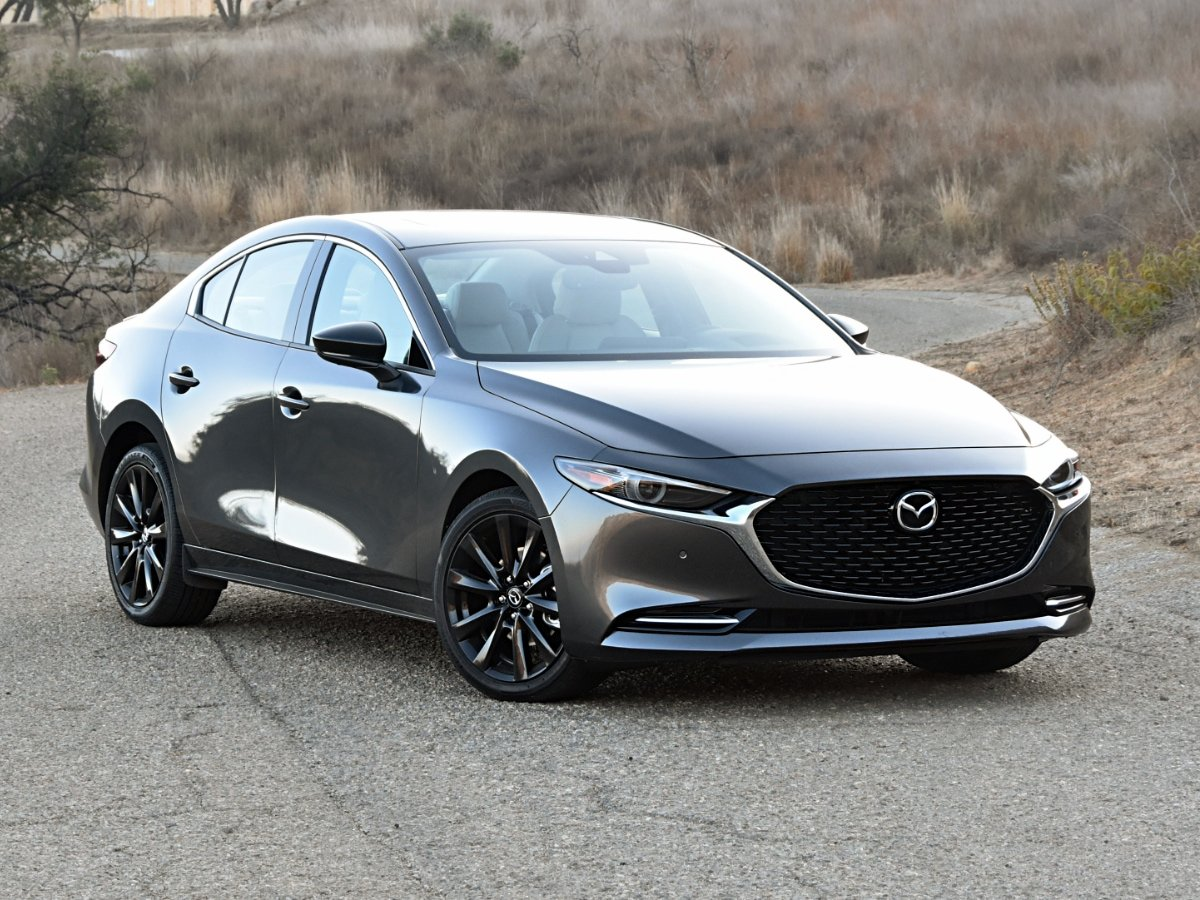car: (77, 209, 1096, 706)
